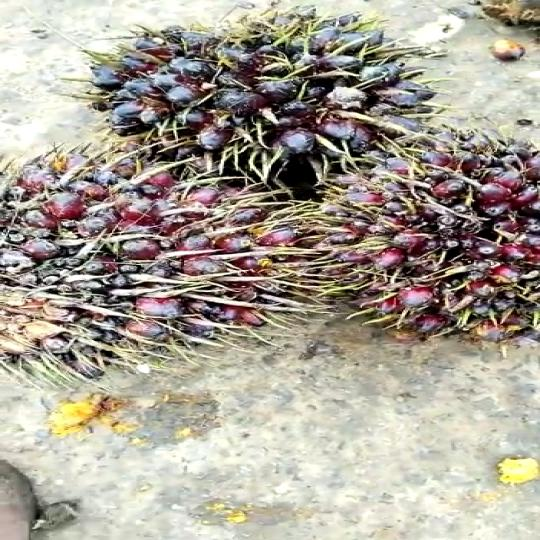kurang masak: (0, 153, 282, 385), (280, 116, 540, 366), (90, 23, 440, 200)
